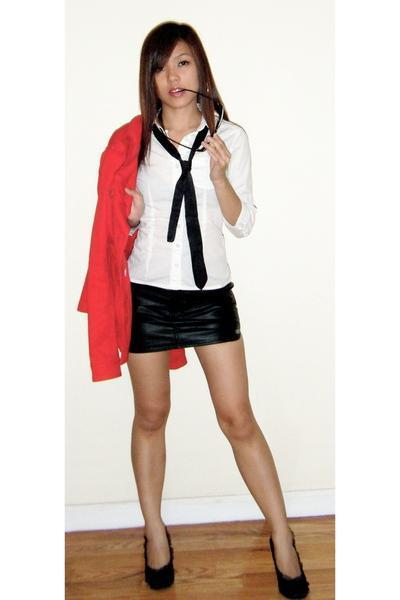jacket: (77, 115, 186, 381)
shirt: (128, 110, 262, 289)
shoe: (144, 540, 306, 590)
skirt: (128, 282, 240, 352)
